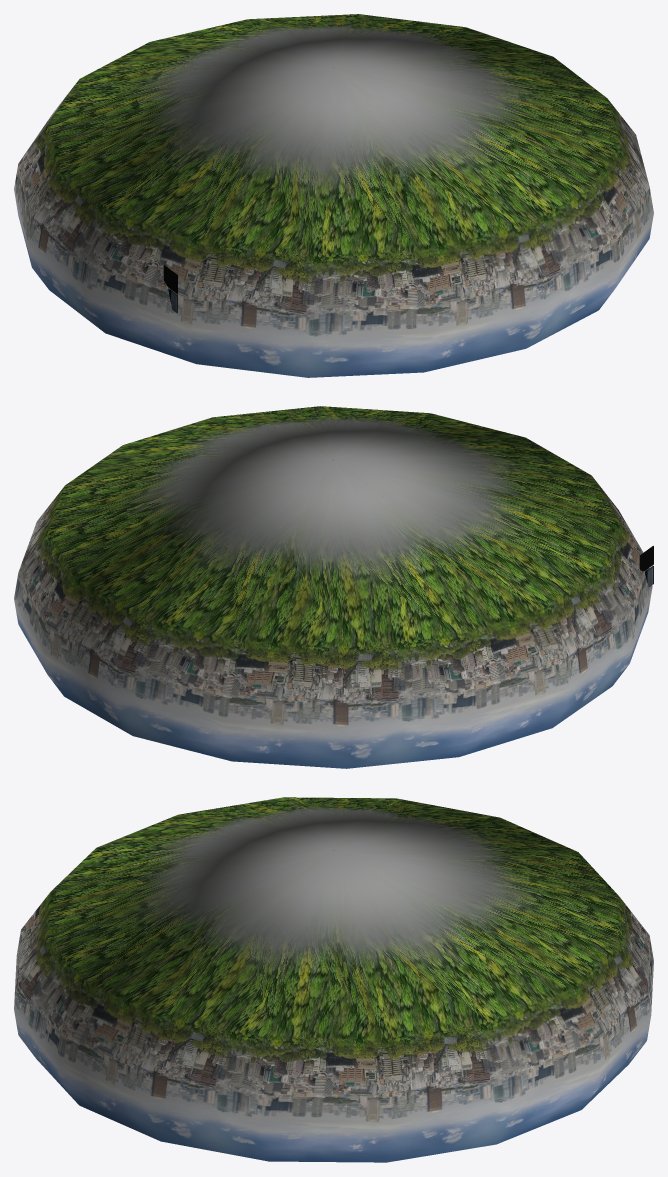
Rendered from Interior.glb.
3 renders of one model, top to bottom at view 1: azimuth 30°, elevation 25°; view 2: azimuth 150°, elevation 25°; view 3: azimuth 270°, elevation 25°, orthographic.
Visible parts, largest first — view 1: Interior; view 2: Interior; view 3: Interior.
Boxes of the visible parts, <box> form: Interior: <box>14,14,653,377</box>; Interior: <box>14,406,653,768</box>; Interior: <box>14,797,653,1162</box>.
Bounding box in the file's own units: 145 × 46.6 × 145.
Materials: 12 (11 with a texture image).
